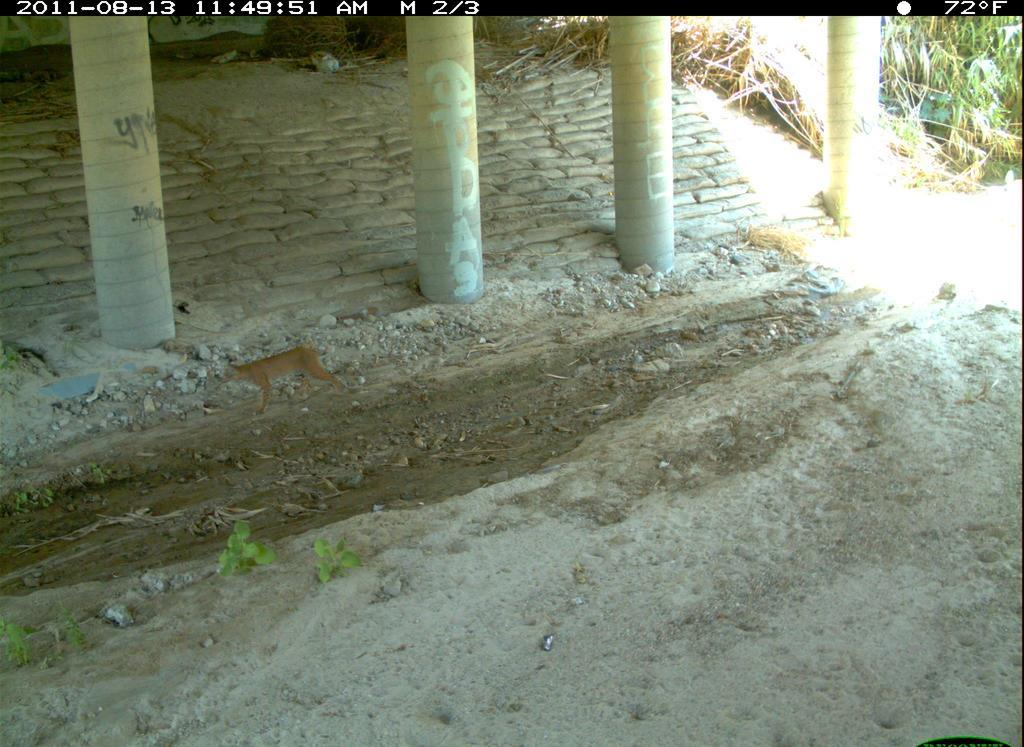bobcat: (438, 680, 704, 747)
